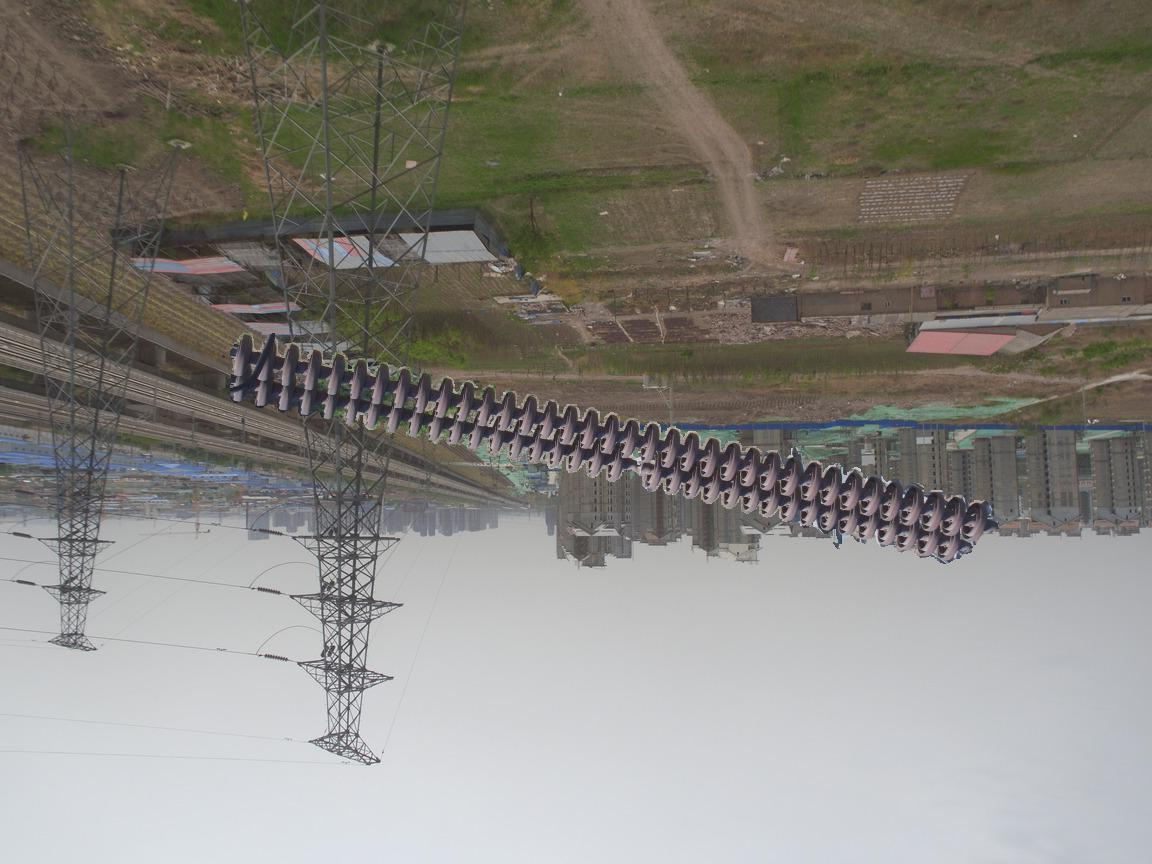insulator: (224, 328, 996, 571)
insulator_stringdrop: (604, 451, 665, 496)
